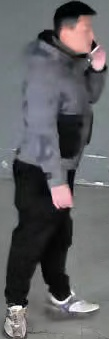phone: (54, 0, 104, 93)
